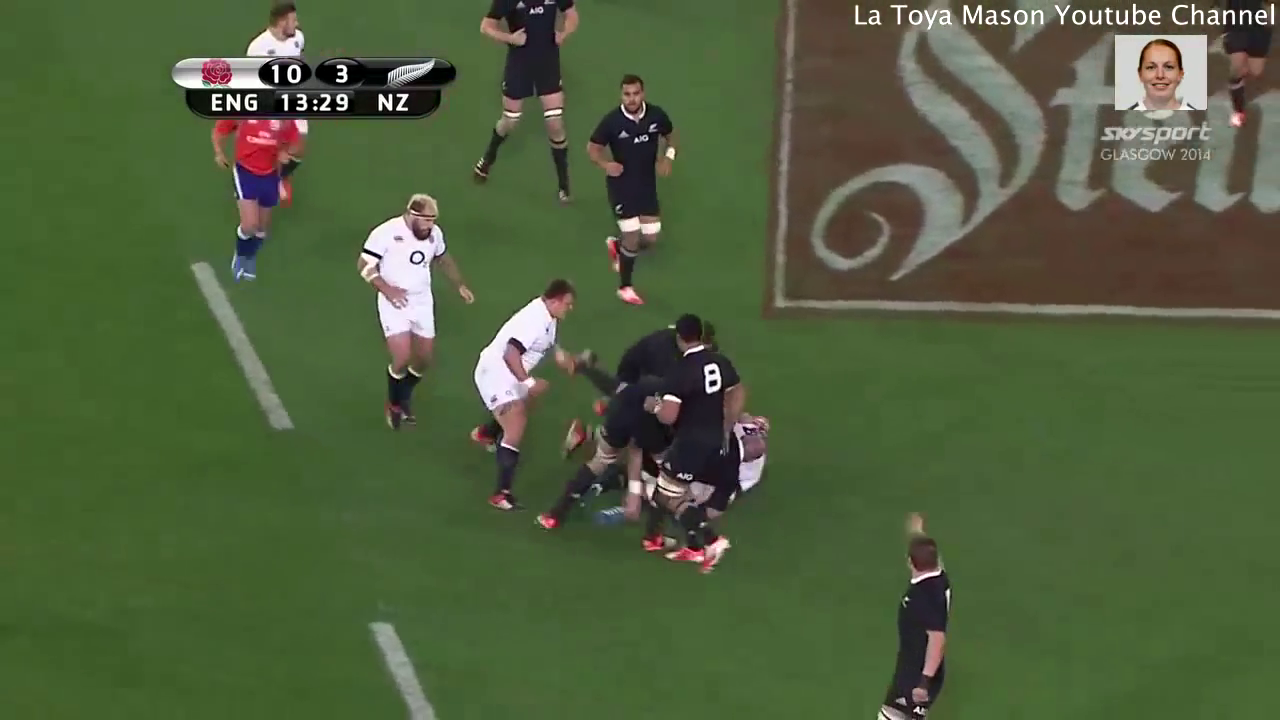player: (353, 187, 476, 446), (459, 272, 580, 521), (646, 308, 747, 580), (465, 1, 589, 210), (583, 69, 685, 312), (863, 508, 959, 720), (202, 120, 311, 289)
ruck: (529, 332, 789, 552)
